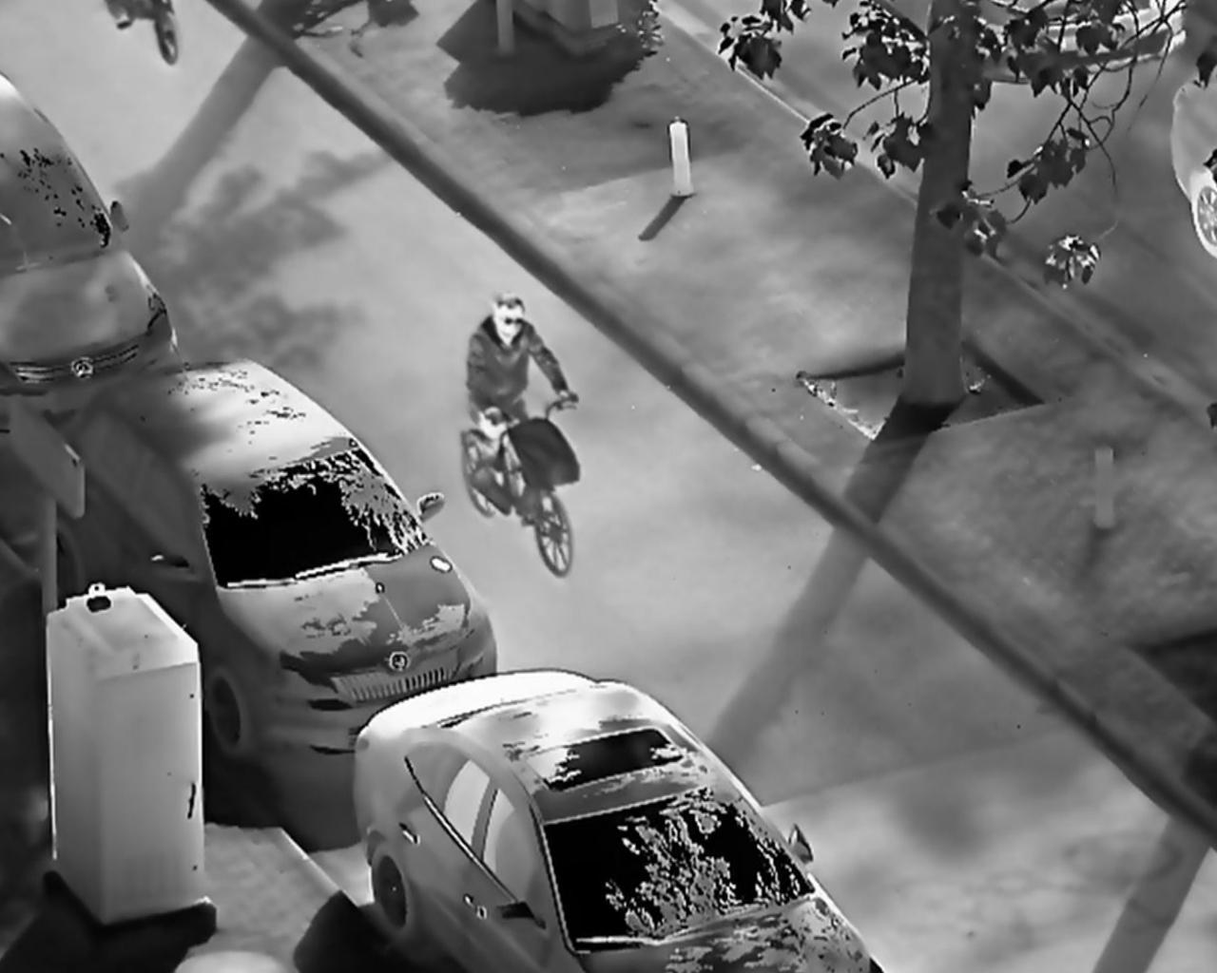person: (461, 292, 584, 480)
